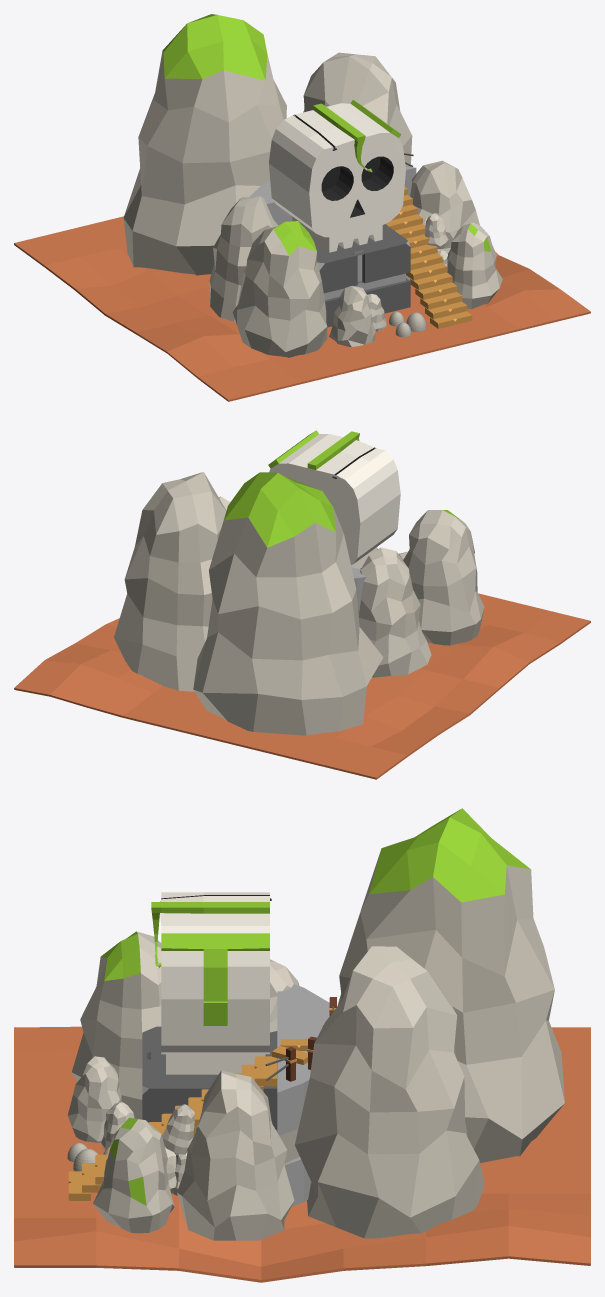
Rendered from SkullIsland.glb.
3 views of the same model, one above another, from view 1: azimuth 30°, elevation 25°; view 2: azimuth 150°, elevation 25°; view 3: azimuth 270°, elevation 25° (orthographic). The views are drawn at different scales.
Visible parts, largest first — view 1: Building 3; view 2: Building 3; view 3: Building 3.
Part boxes in pixels (x1,y1,x2,y2): Building 3: (14, 14, 590, 401); Building 3: (14, 430, 590, 779); Building 3: (14, 808, 590, 1282).
Bounding box in the file's own units: 85.94 × 56.48 × 87.66.
Materials: 1 (1 with a texture image).
